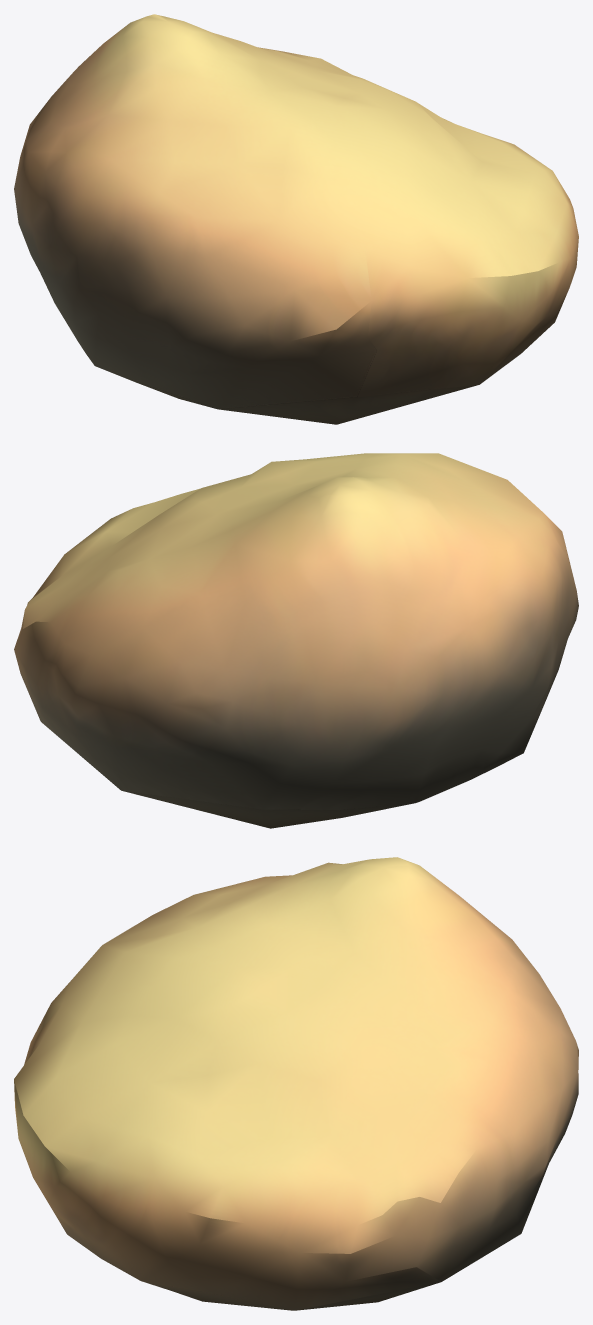
Rendered from Bw_Mayo.fbx.
The picture shows the model from 3 angles, top to bottom: view 1: azimuth 30°, elevation 25°; view 2: azimuth 150°, elevation 25°; view 3: azimuth 270°, elevation 25°; orthographic projection.
Parts seen in each view (by area): view 1: bw.mayo; view 2: bw.mayo; view 3: bw.mayo.
Boxes of the visible parts, x1=… form: bw.mayo: x1=14, y1=14, x2=578, y2=424; bw.mayo: x1=14, y1=453, x2=578, y2=828; bw.mayo: x1=14, y1=857, x2=578, y2=1310.
Size of the model in its own units: 5.95 by 4.17 by 5.92.
